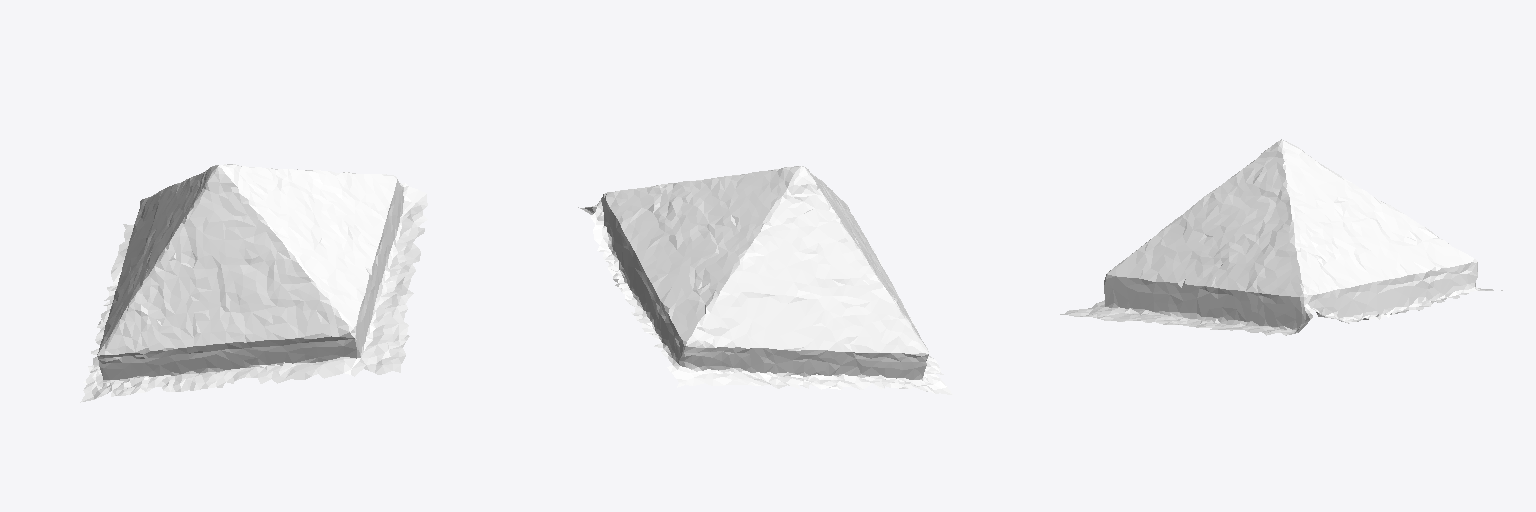
The model's file is East.obj.
3 views of the same model, side by side, from view 1: azimuth 30°, elevation 25°; view 2: azimuth 150°, elevation 25°; view 3: azimuth 270°, elevation 25° (orthographic).
Bounding box in the file's own units: 5.99 × 3.14 × 6.45.